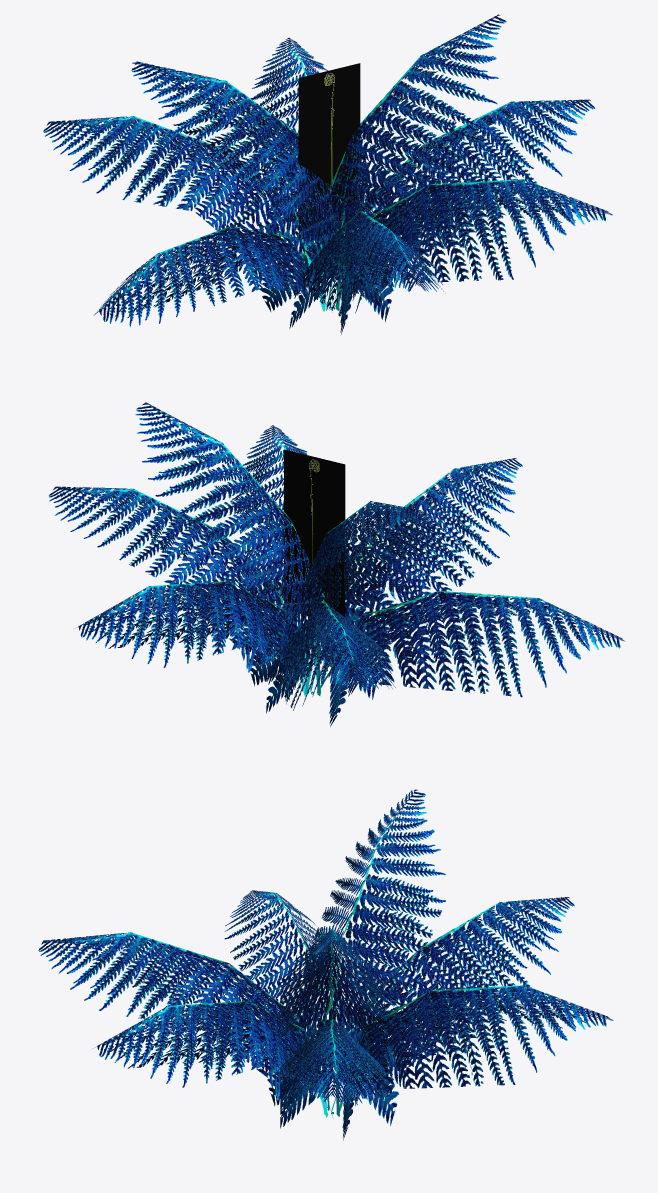
Rendered from TropicFern01.DAE.
3 views of the same model, one above another, from view 1: azimuth 30°, elevation 25°; view 2: azimuth 150°, elevation 25°; view 3: azimuth 270°, elevation 25° (orthographic).
Visible parts, largest first — view 1: TropicFern128, TropicFern256; view 2: TropicFern128, TropicFern256; view 3: TropicFern128, TropicFern256.
Part boxes in pixels (<box>): TropicFern128: <box>43,18,612,328</box>; TropicFern256: <box>43,14,612,334</box>; TropicFern128: <box>49,402,623,717</box>; TropicFern256: <box>49,410,624,726</box>; TropicFern128: <box>38,789,613,1131</box>; TropicFern256: <box>39,789,612,1140</box>.
Size of the model in its own units: 1.83 by 1.78 by 0.925.
